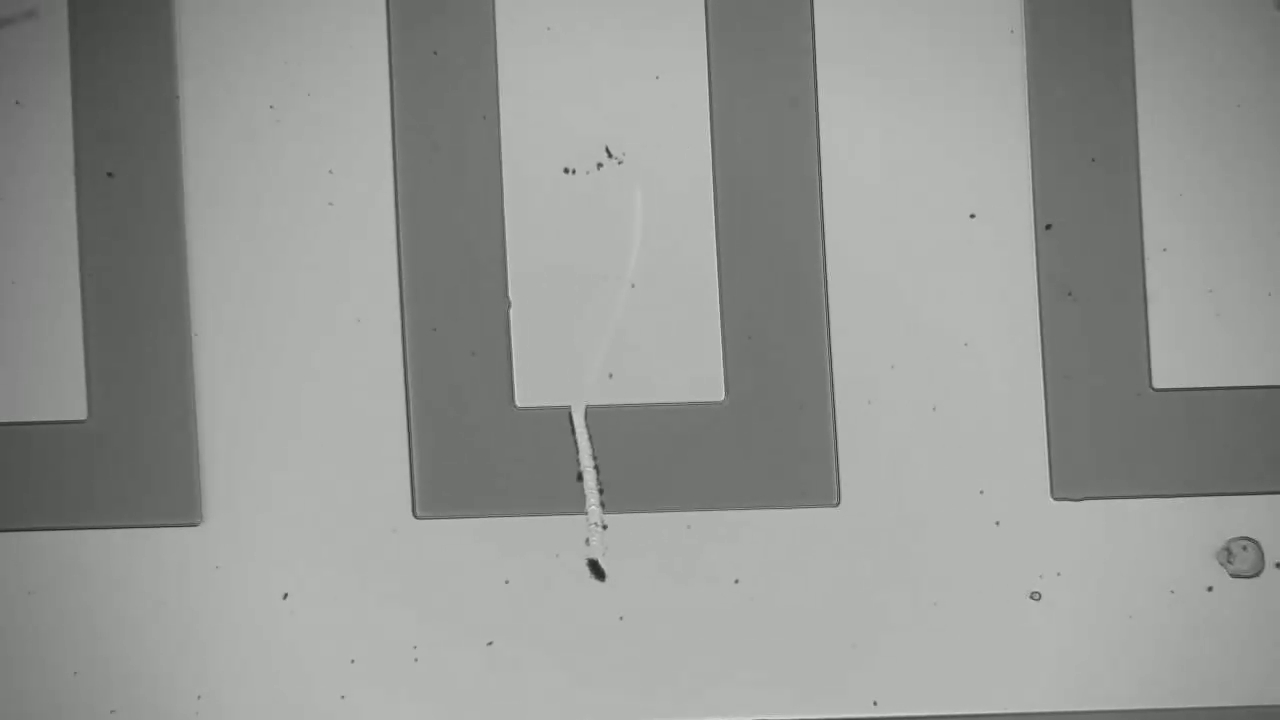Short_circuit: (550, 384, 631, 534)
